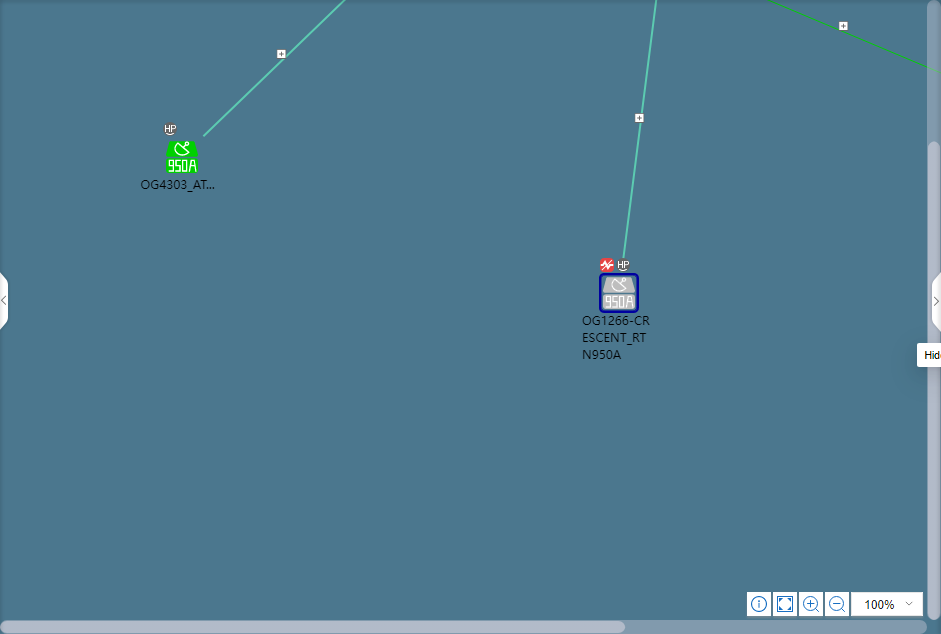Link_Blue: (201, 0, 347, 137), (622, 0, 658, 260)
Link_Green: (760, 0, 940, 76)
RTN_Gray: (600, 276, 637, 311)
RTN_Green: (166, 141, 196, 173)
